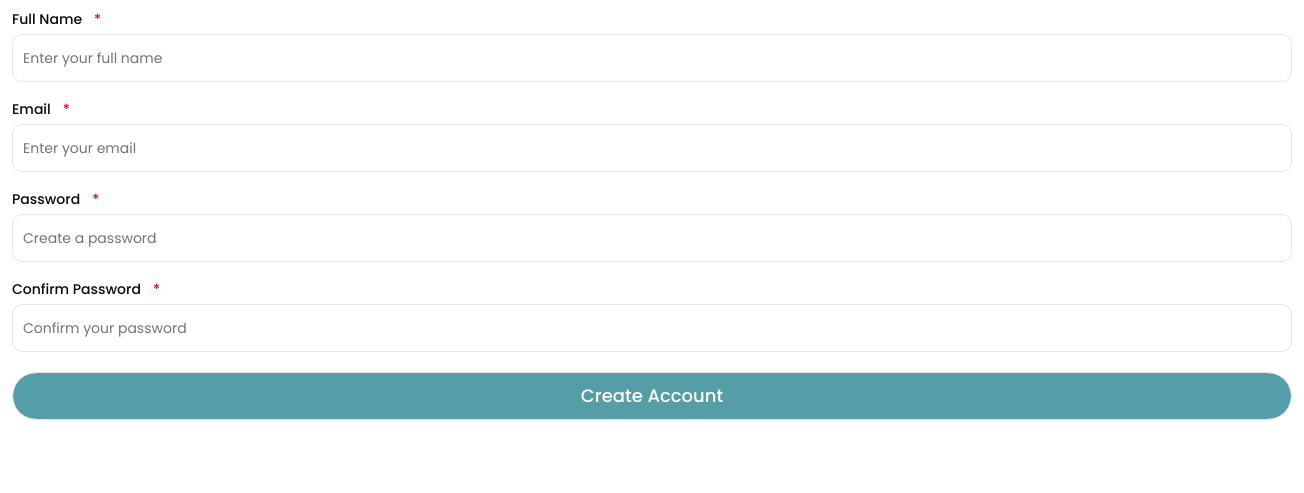
Test: SignUpForm › Validation › removes email error after entering valid email
Type "wrong" into the field labelled "Email *" at coordinates (652, 148), box [12,124,1292,172]
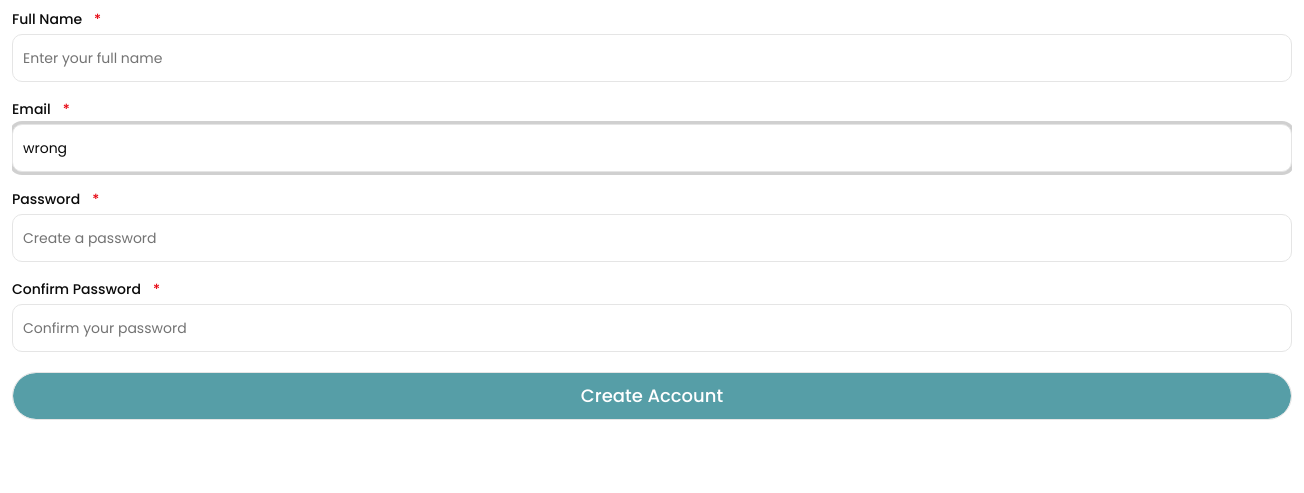
Press Tab
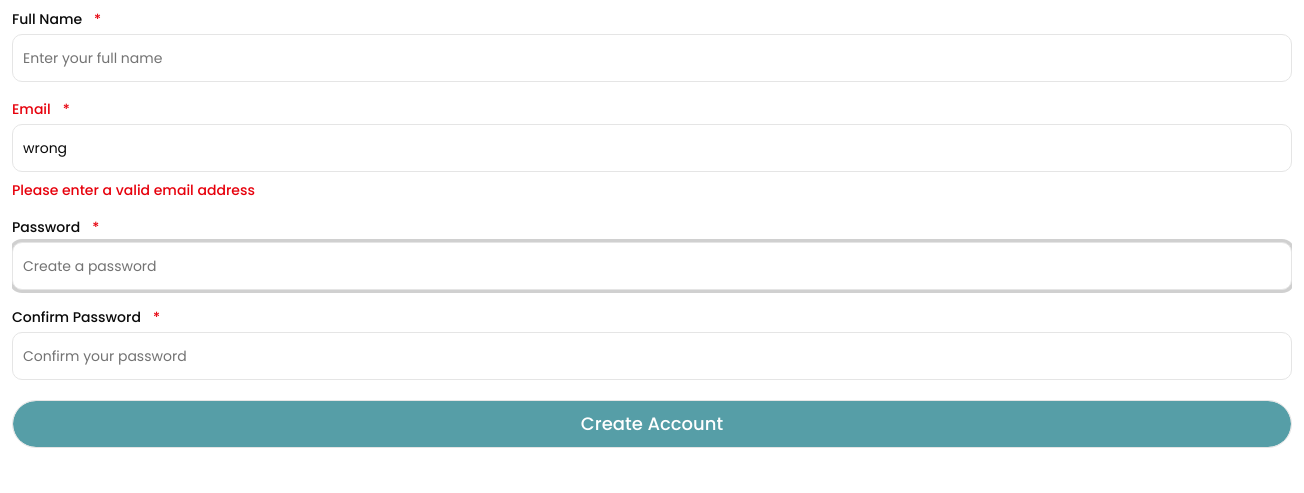
expect the text "Please enter a valid email address" is shown: met, box [12,180,255,200]
Replace the text in the field labelled "Email *" with "john@example.com" at coordinates (652, 148), box [12,124,1292,172]
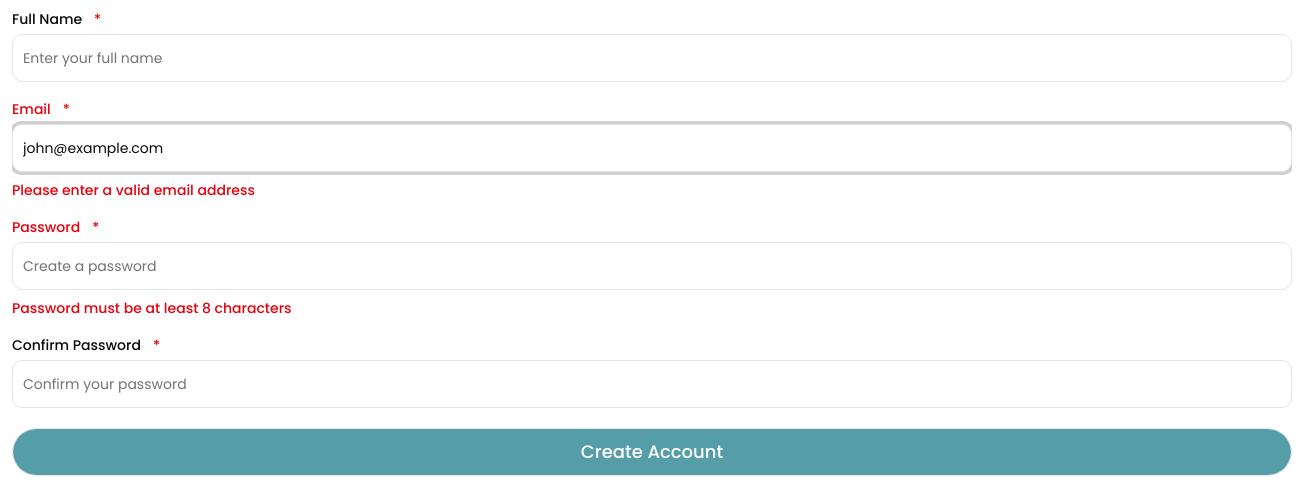
Press Tab
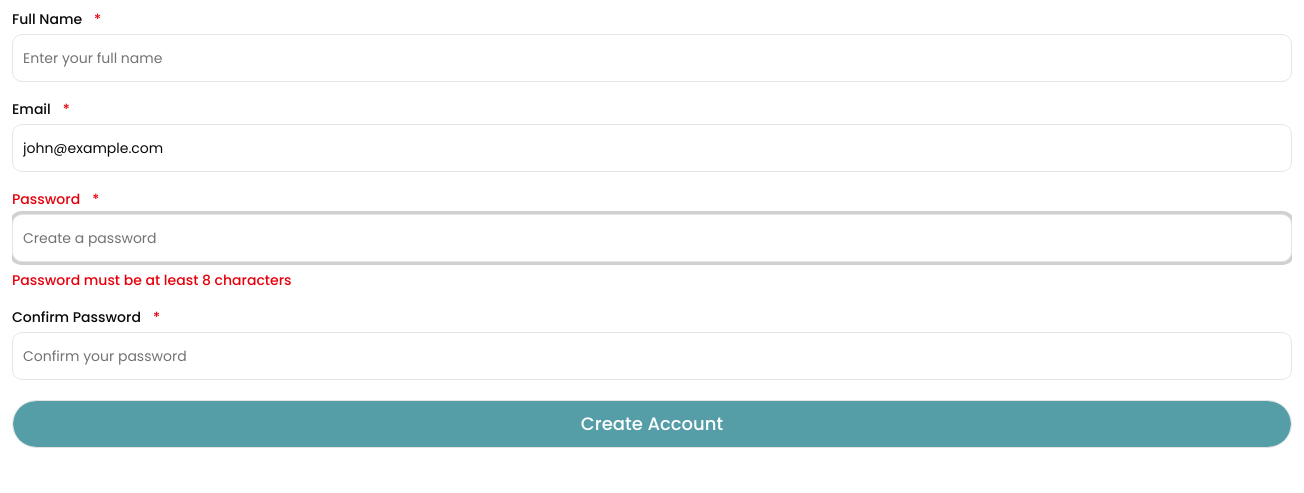
expect the text "valid email" is gone: met
